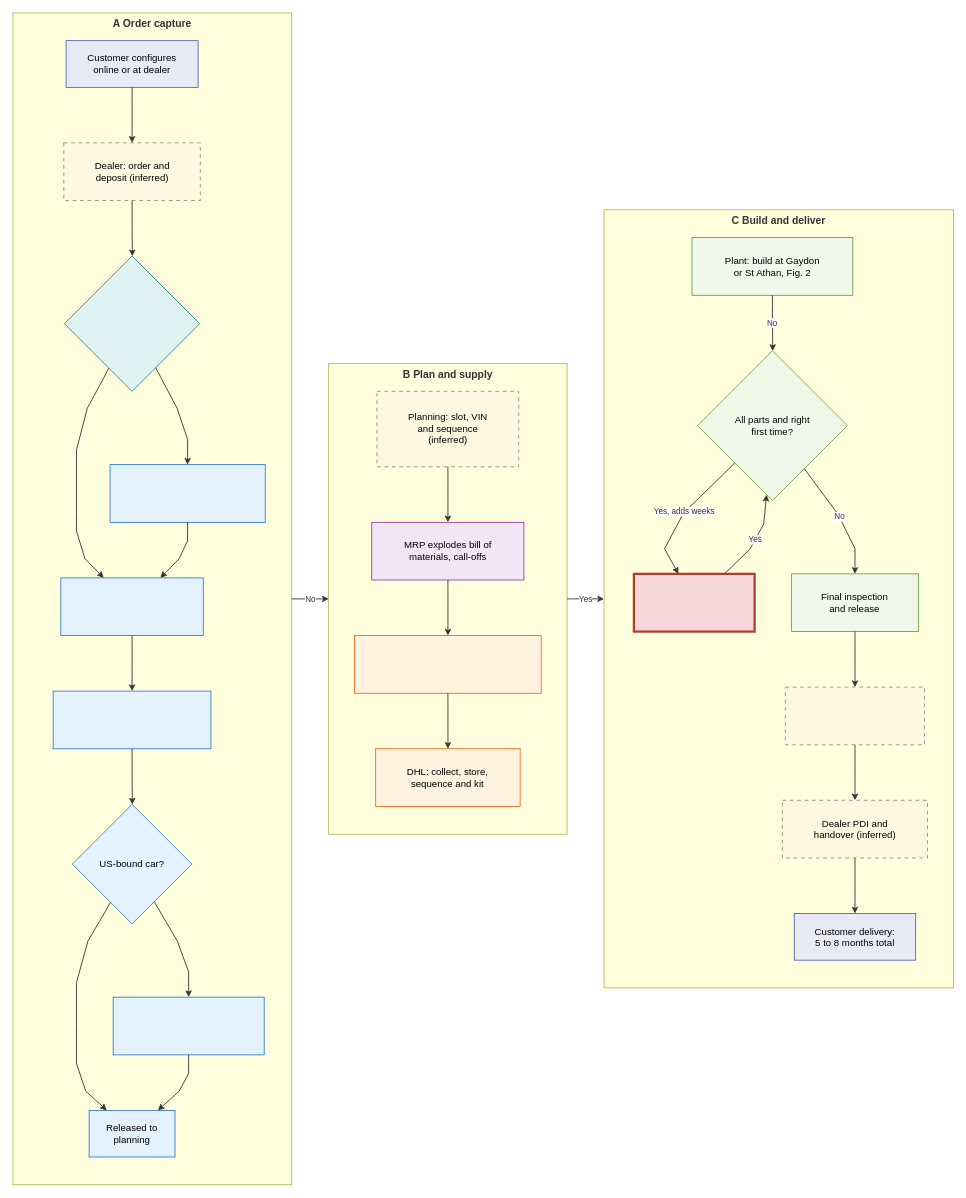
Image size: 966x1198. Some labels were removed from this diagram. Here are the shapes that lost their labels. From the top down, the centre of each, then its label:
(x=132, y=323): Q Commission requested?
(x=187, y=493): AML Q team: design, feasibility, sign-off
(x=131, y=606): AML: specification frozen before build
(x=693, y=602): Hold or rectify: hidden factory
(x=447, y=664): Suppliers: Mercedes-AMG, ZF, seats, leather
(x=131, y=719): AML order bank: core book about 5 months
(x=855, y=715): Outbound by road or sea (inferred)
(x=188, y=1025): Ship within quarterly US tariff quota
